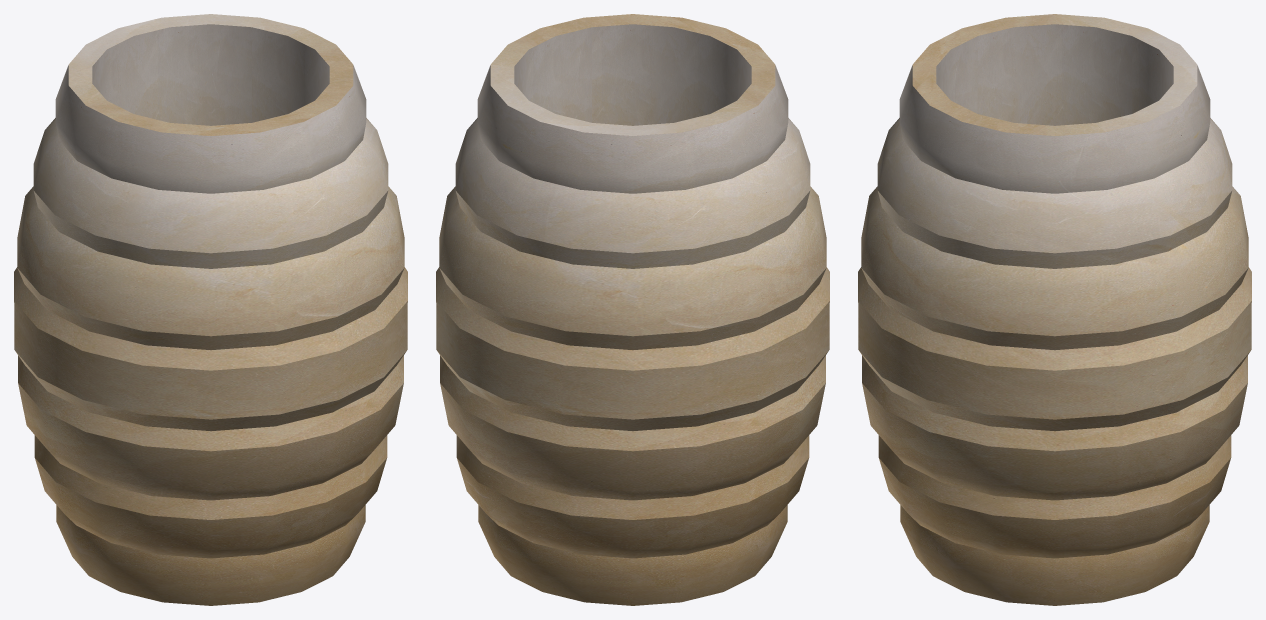
Rendered from Vase 1.FBX.
The picture shows the model from 3 angles, left to right: view 1: azimuth 30°, elevation 25°; view 2: azimuth 150°, elevation 25°; view 3: azimuth 270°, elevation 25°; orthographic projection.
Parts seen in each view (by area): view 1: Vase 1; view 2: Vase 1; view 3: Vase 1.
Part boxes in pixels (box(x1,y1,x2,y2)): Vase 1: box(14, 14, 407, 605); Vase 1: box(436, 14, 829, 605); Vase 1: box(858, 14, 1251, 605).
Size of the model in its own units: 22.34 by 29.06 by 22.
1 material, 1 textured.
